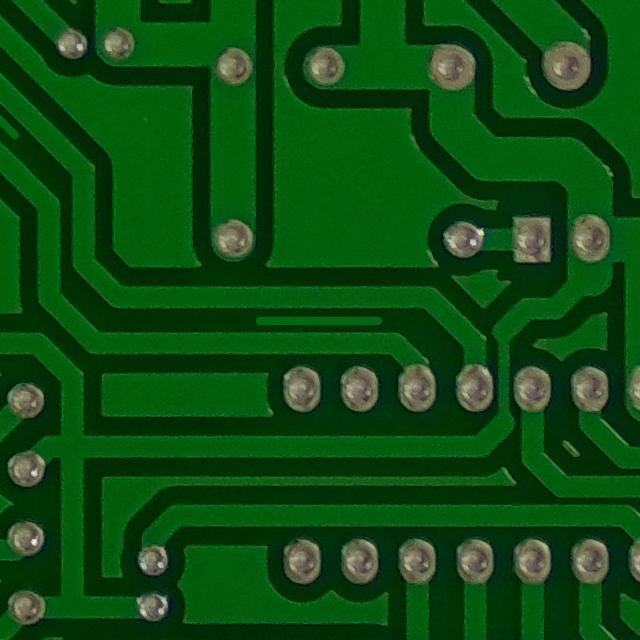spurious_copper: (240, 294, 400, 346)
